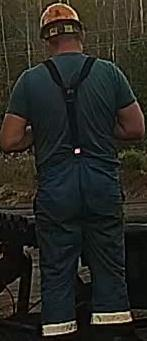helmet: (38, 2, 85, 41)
